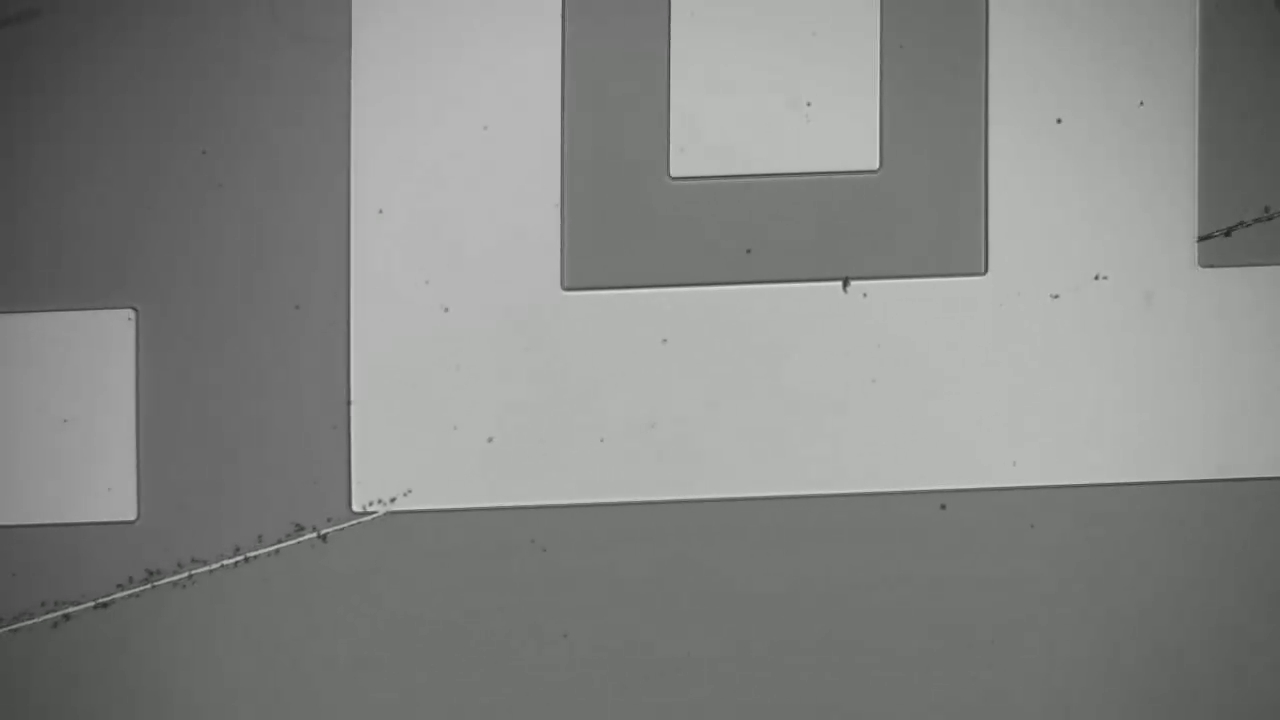scratch: (2, 515, 392, 639), (1208, 212, 1280, 237)
